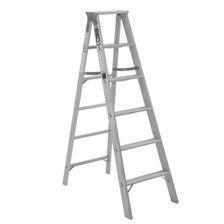Feet: (15, 53, 216, 170)
